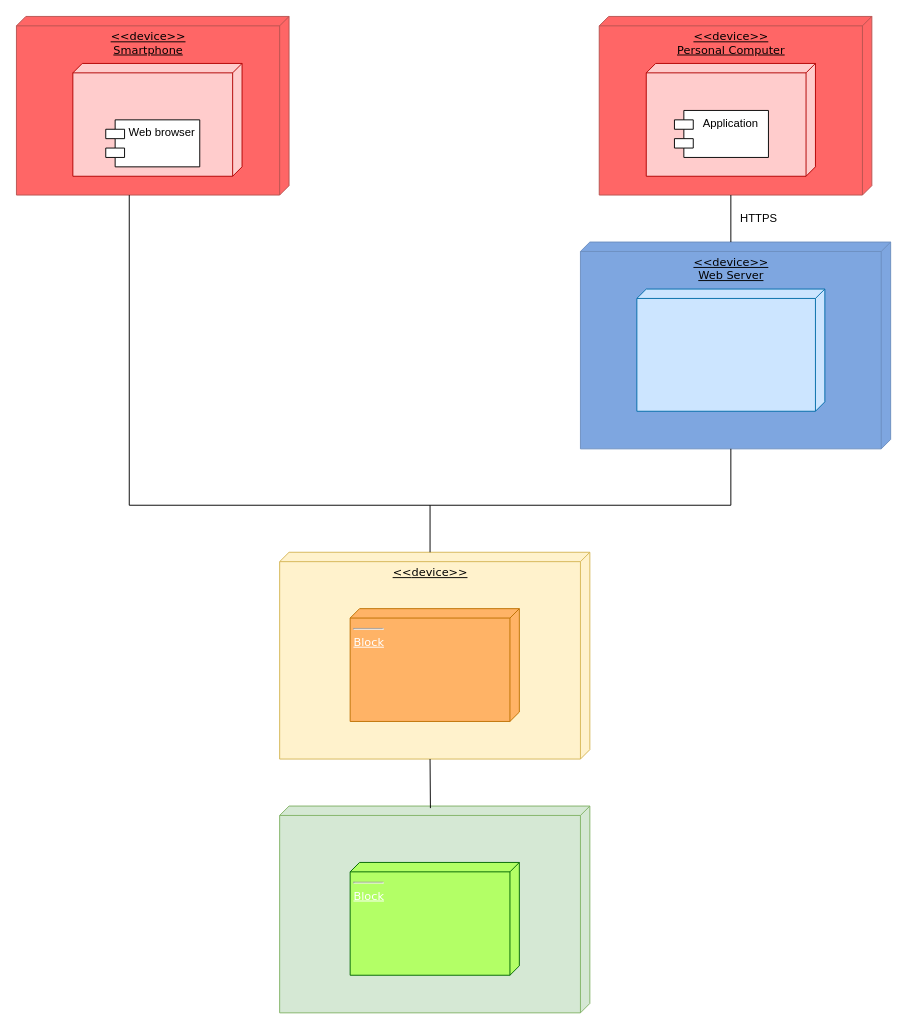
Some shapes in this 907 by 1029 pixel diagram are drawn without their labels. Here are the shapes that lost their labels. From the top down, the box of each, then its label:
(72, 63, 242, 176): <<OS>> Desktop OS
(645, 63, 815, 176): <<OS>> Mobile OS
(636, 288, 825, 411): <<Web Server>>
(279, 805, 590, 1013): < <device>>
